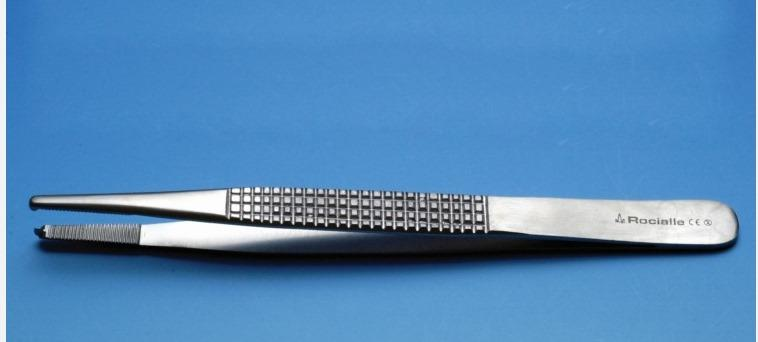Dissecting Forceps Tooth: (28, 170, 747, 263)
